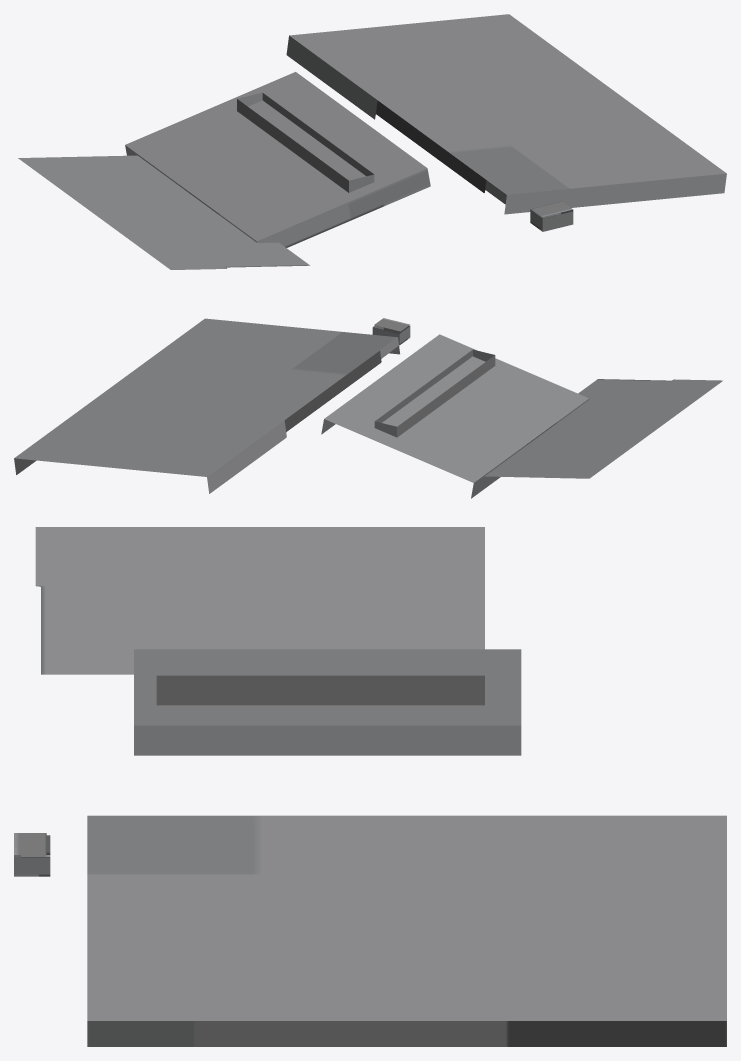
3 views of the same model, one above another, from view 1: azimuth 30°, elevation 25°; view 2: azimuth 150°, elevation 25°; view 3: azimuth 270°, elevation 25° (orthographic). The views are drawn at different scales.
Bounding box in the file's own units: 0.5665 × 0.0767 × 0.4125.
